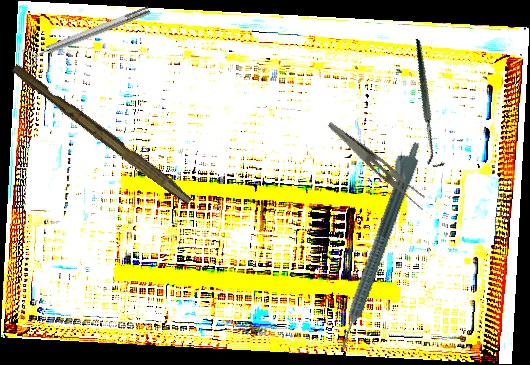Dressing Forceps: (318, 120, 434, 213)
Fixation Ring: (20, 0, 154, 70)
Handpiece: (327, 136, 425, 352)
Hook Surgical: (375, 38, 484, 171)
Scalpel Handle: (8, 62, 197, 206)
